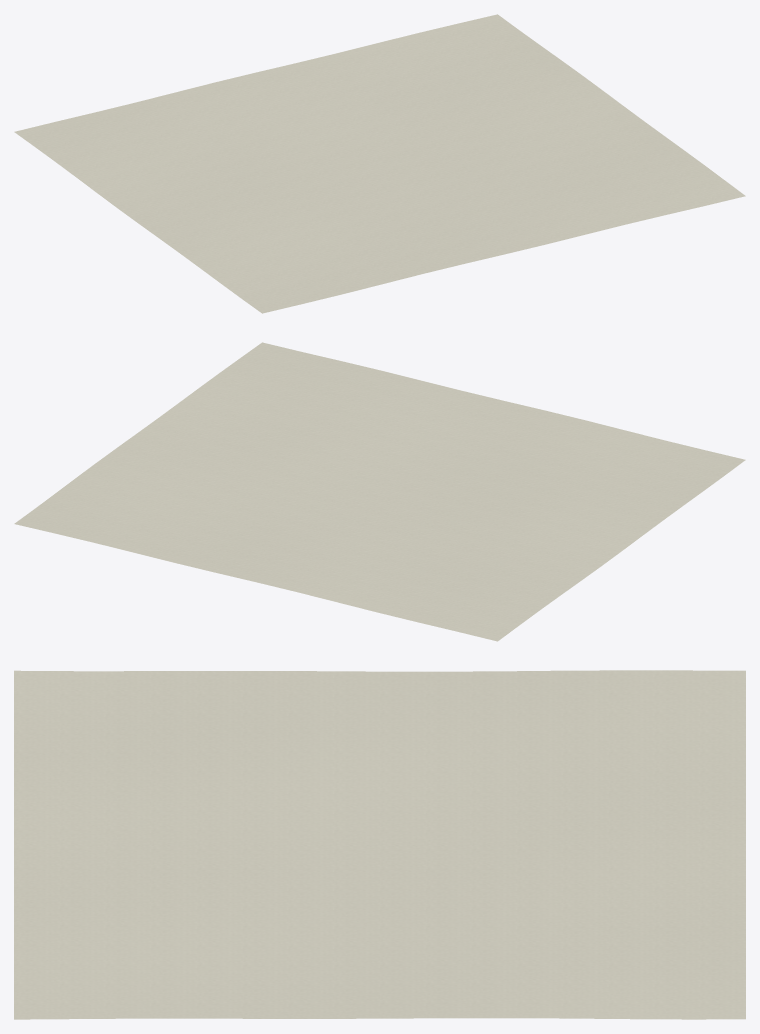
File: seabed.dae
3 renders of one model, top to bottom at view 1: azimuth 30°, elevation 25°; view 2: azimuth 150°, elevation 25°; view 3: azimuth 270°, elevation 25°, orthographic. The views are drawn at different scales.
Visible parts, largest first — view 1: surface_node; view 2: surface_node; view 3: surface_node.
Part boxes in pixels (x1=…): surface_node: x1=14, y1=14, x2=745, y2=313; surface_node: x1=14, y1=342, x2=745, y2=641; surface_node: x1=14, y1=670, x2=745, y2=1019.
Bounding box in the file's own units: 18 × 16 × 0.0428.
1 material, 1 textured.
